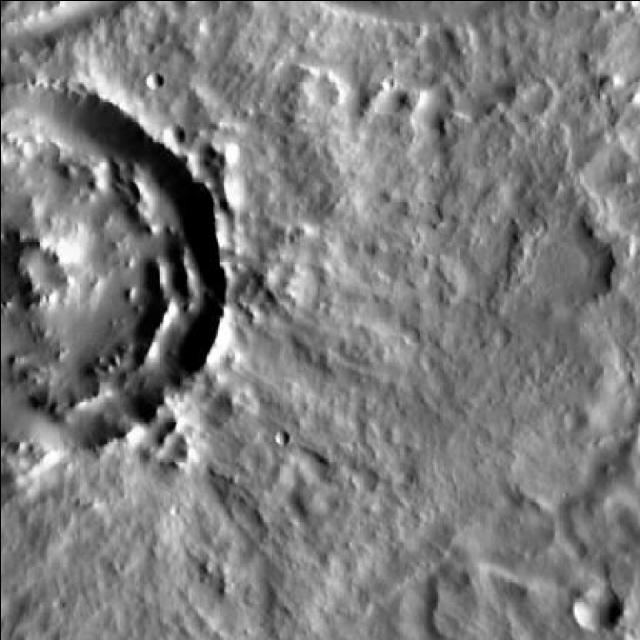crater: (0, 87, 228, 446), (504, 216, 600, 307), (572, 584, 620, 630), (168, 125, 190, 147), (529, 1, 557, 17), (144, 73, 161, 89)
